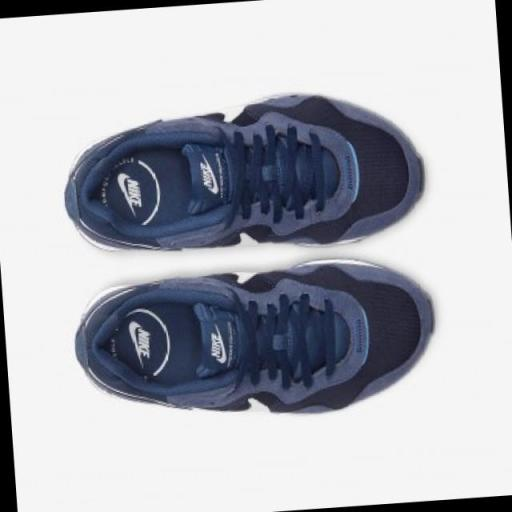Nike: (217, 328, 228, 365), (198, 162, 213, 187)
